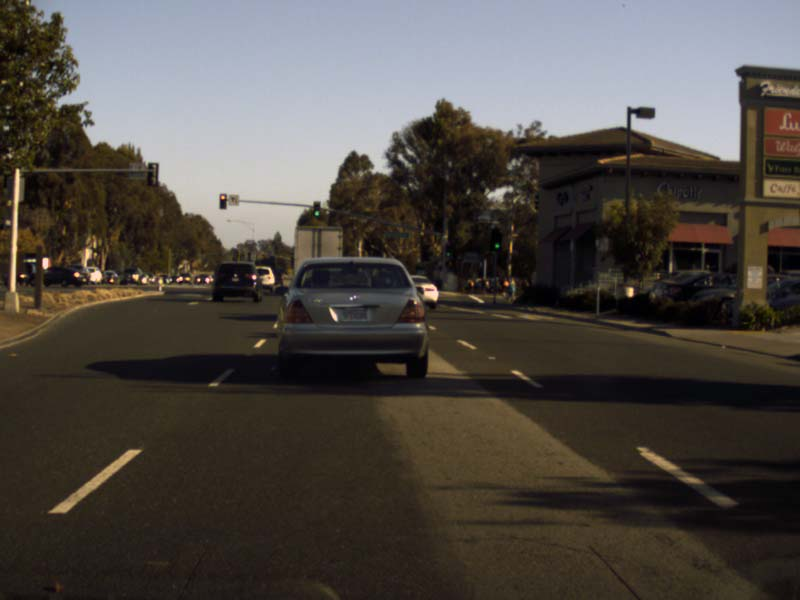Green: (490, 227, 501, 251), (313, 201, 320, 218), (445, 245, 451, 257)
Red: (219, 193, 227, 209)
